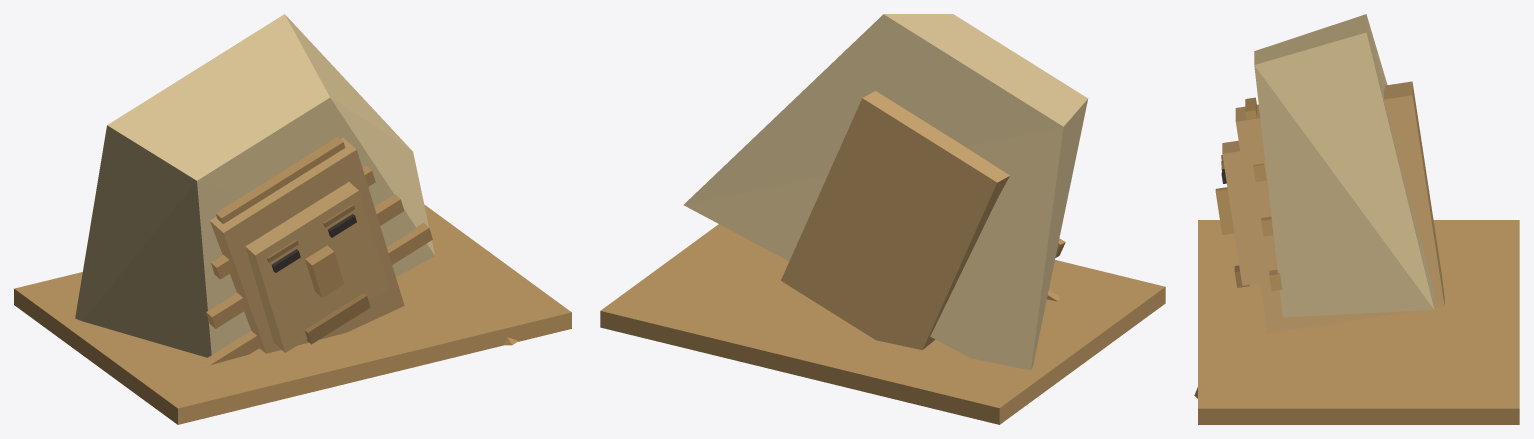
The model's file is desert_head.glb.
3 views of the same model, side by side, from view 1: azimuth 30°, elevation 25°; view 2: azimuth 150°, elevation 25°; view 3: azimuth 270°, elevation 25° (orthographic). The views are drawn at different scales.
Parts seen in each view (by area): view 1: desert_head; view 2: desert_head; view 3: desert_head.
Boxes of the visible parts, bbox=[...] form: desert_head: bbox=[14, 14, 571, 424]; desert_head: bbox=[600, 14, 1165, 424]; desert_head: bbox=[1194, 14, 1519, 424].
Bounding box in the file's own units: 5 × 3.65 × 3.64.
